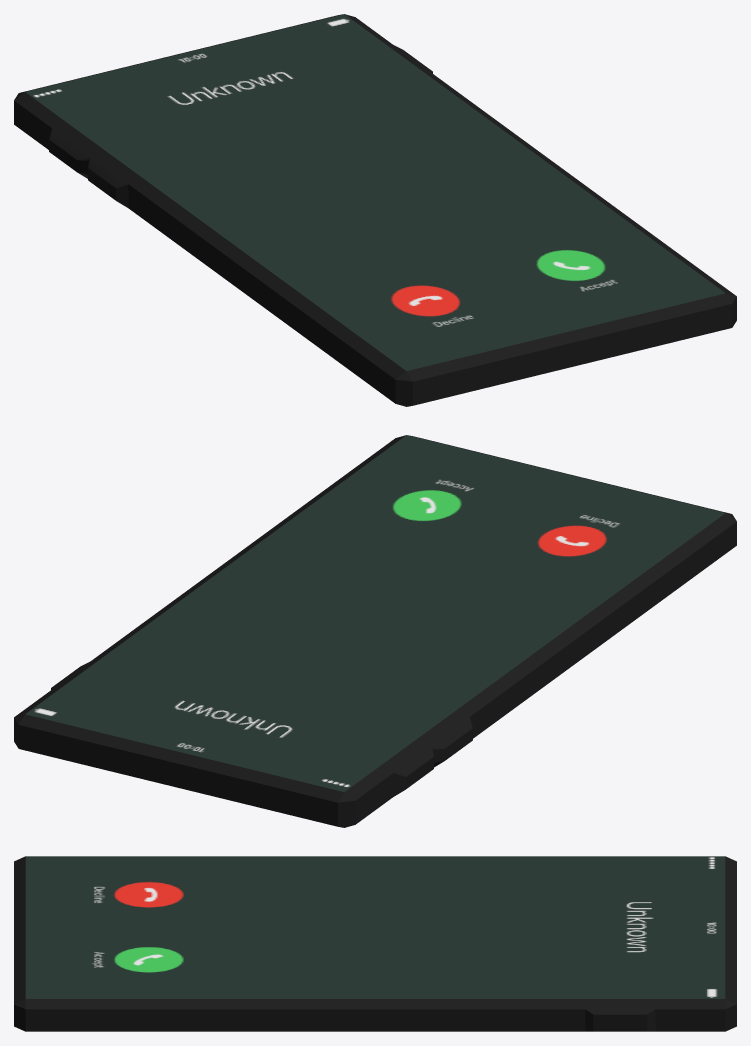
Rendered from Phone.fbx.
3 renders of one model, top to bottom at view 1: azimuth 30°, elevation 25°; view 2: azimuth 150°, elevation 25°; view 3: azimuth 270°, elevation 25°, orthographic. The views are drawn at different scales.
Parts seen in each view (by area): view 1: Phone; view 2: Phone; view 3: Phone.
Boxes of the visible parts, x1,y1,x2,y2 form: Phone: [14, 14, 736, 406]; Phone: [14, 435, 736, 827]; Phone: [14, 856, 736, 1031].
Size of the model in its own units: 0.2596 by 0.025 by 0.5.
Materials: 2 (1 with a texture image).
